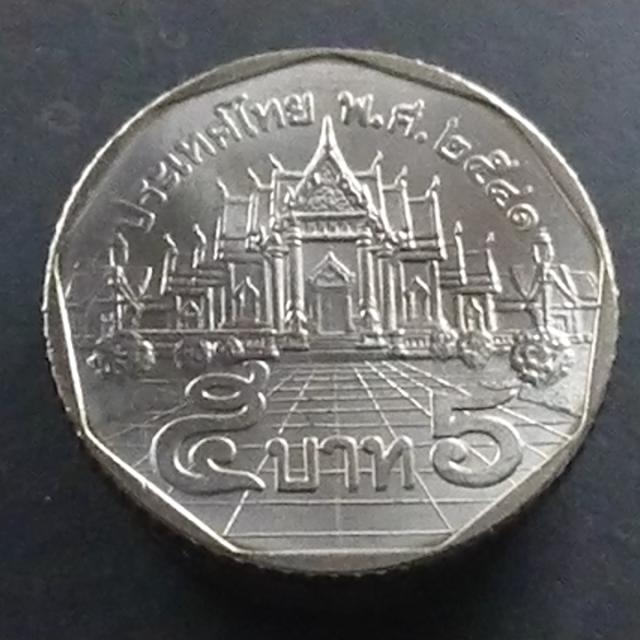5 Bath: (41, 45, 625, 591)
